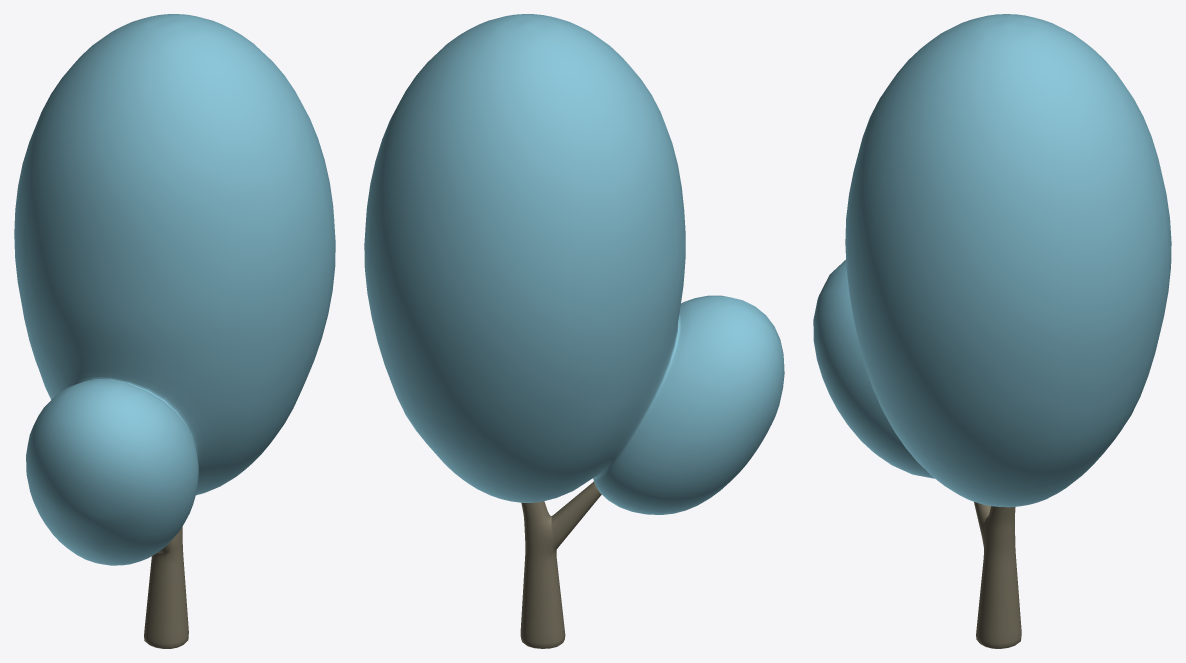
File: SM_20006ArvoreOval.fbx
3 renders of one model, left to right at view 1: azimuth 30°, elevation 25°; view 2: azimuth 150°, elevation 25°; view 3: azimuth 270°, elevation 25°, orthographic.
Parts seen in each view (by area): view 1: SM_20006ArvoreOval_geo_1, SM_20006ArvoreOval_geo_2; view 2: SM_20006ArvoreOval_geo_1, SM_20006ArvoreOval_geo_2; view 3: SM_20006ArvoreOval_geo_1, SM_20006ArvoreOval_geo_2.
Boxes of the visible parts, x1=… form: SM_20006ArvoreOval_geo_1: x1=14, y1=14, x2=335, y2=565; SM_20006ArvoreOval_geo_2: x1=144, y1=526, x2=188, y2=648; SM_20006ArvoreOval_geo_1: x1=364, y1=14, x2=784, y2=514; SM_20006ArvoreOval_geo_2: x1=520, y1=481, x2=601, y2=648; SM_20006ArvoreOval_geo_1: x1=813, y1=14, x2=1171, y2=507; SM_20006ArvoreOval_geo_2: x1=974, y1=502, x2=1021, y2=648.
Size of the model in its own units: 158 by 280 by 146.
